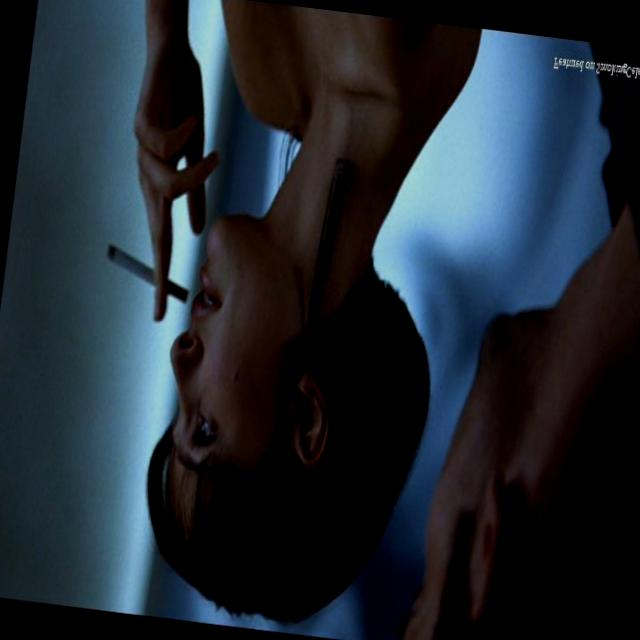smoke: (73, 232, 199, 314)
